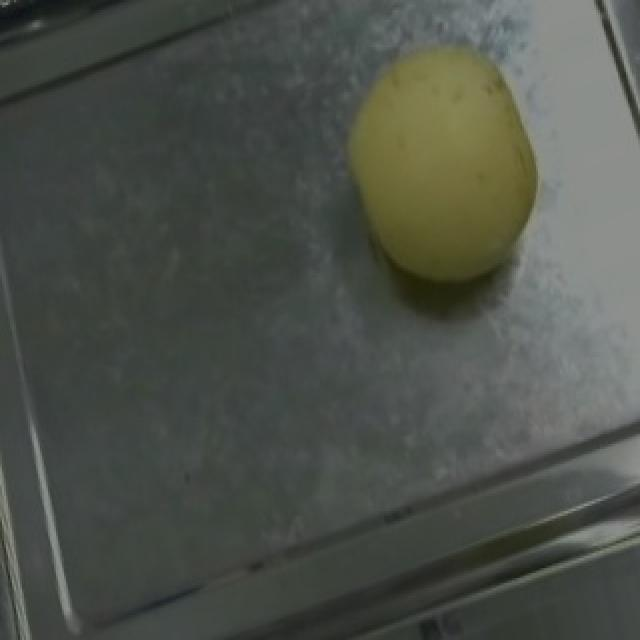Fruit: (302, 10, 582, 325)
